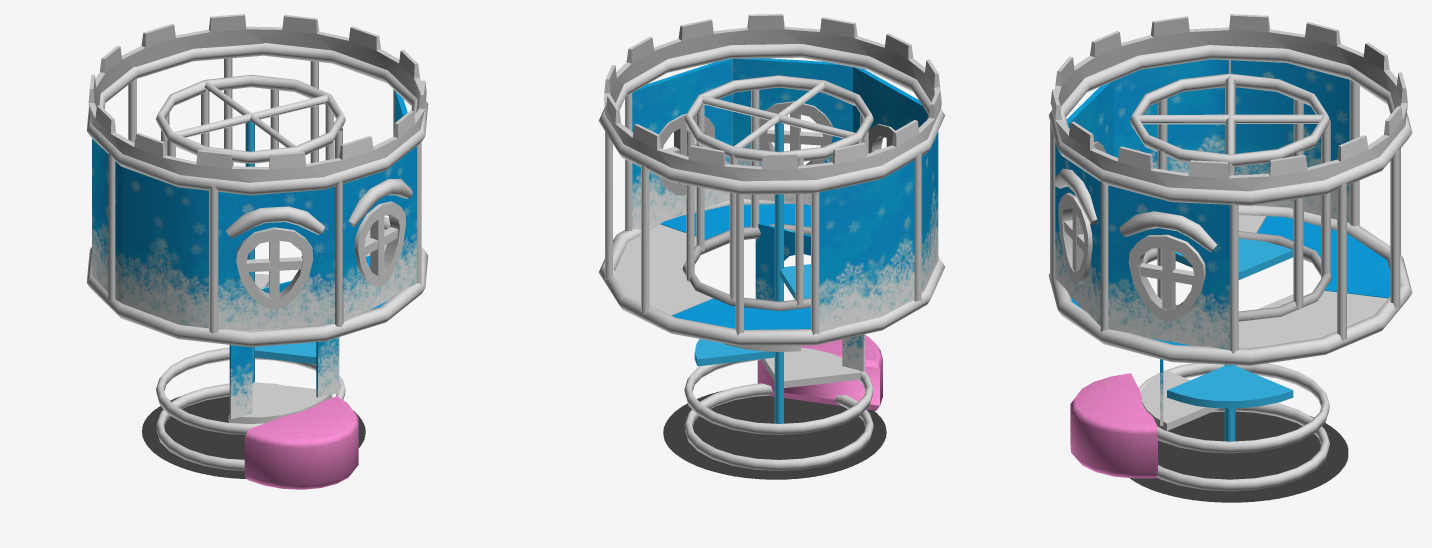
The model's file is round_climb.DAE.
The picture shows the model from 3 angles, left to right: view 1: azimuth 30°, elevation 25°; view 2: azimuth 150°, elevation 25°; view 3: azimuth 270°, elevation 25°; orthographic projection. The views are drawn at different scales.
Visible parts, largest first — view 1: round_climb, sd_round_climb; view 2: round_climb, sd_round_climb; view 3: round_climb, sd_round_climb.
Part boxes in pixels (box(x1,y1,x2,y2)): round_climb: box(86, 14, 428, 489); sd_round_climb: box(142, 396, 365, 478); round_climb: box(598, 14, 945, 470); sd_round_climb: box(663, 390, 886, 479); round_climb: box(1048, 14, 1412, 491); sd_round_climb: box(1130, 411, 1348, 502).
Bounding box in the file's own units: 2882 × 2882 × 3103.
Materials: 2 (2 with a texture image).
